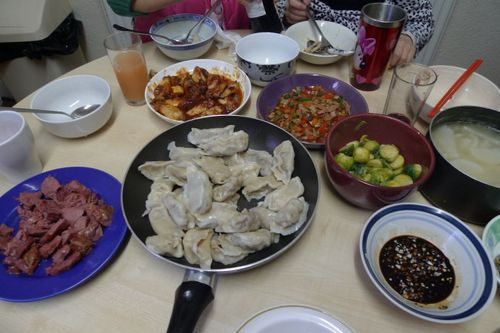food: (121, 106, 317, 271), (0, 156, 121, 295), (356, 200, 486, 321), (323, 108, 432, 205), (258, 68, 362, 149), (142, 52, 252, 121), (25, 69, 111, 137), (148, 9, 215, 59)
